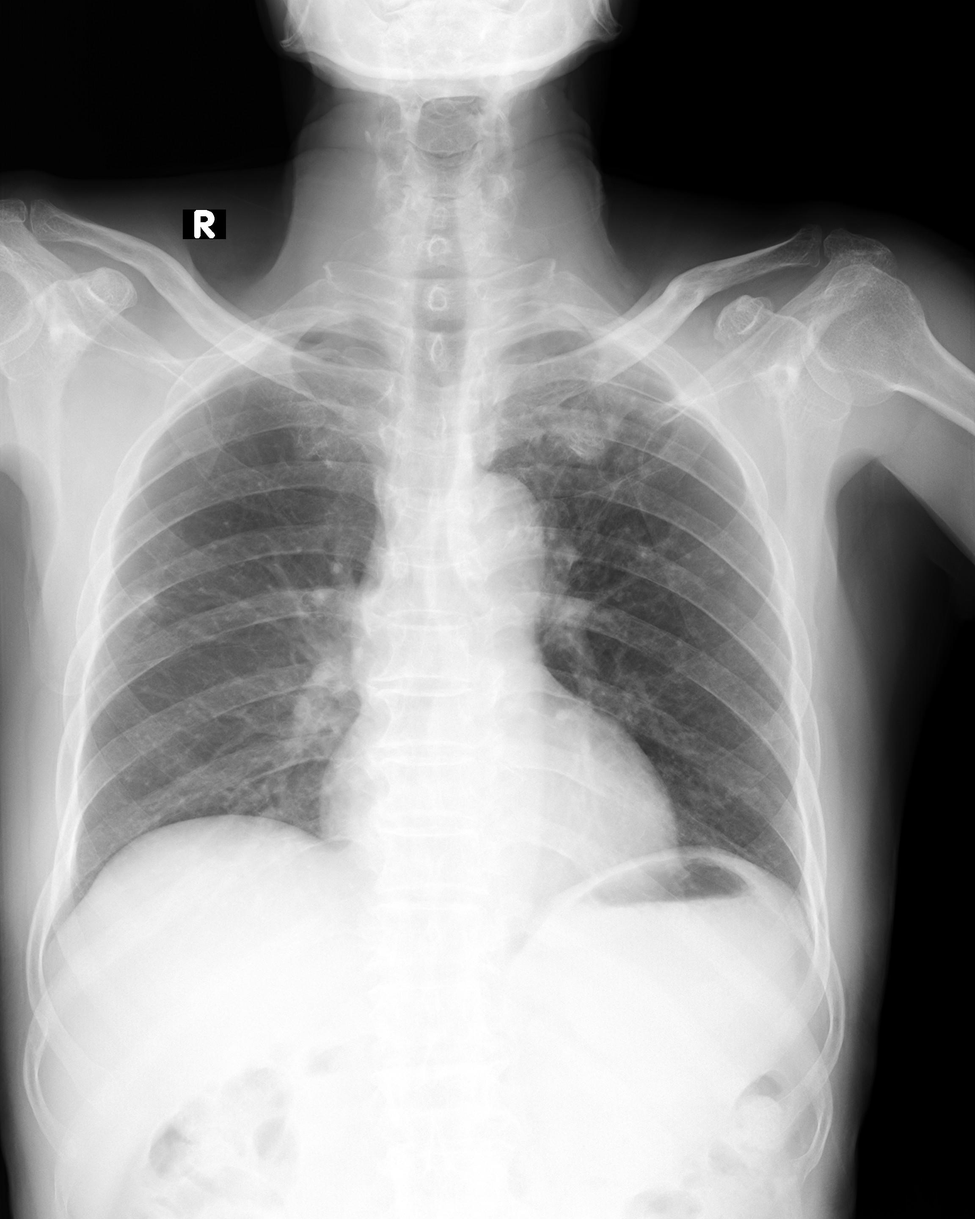Pulmonary fibrosis: (107, 585, 187, 629), (638, 516, 689, 566)
